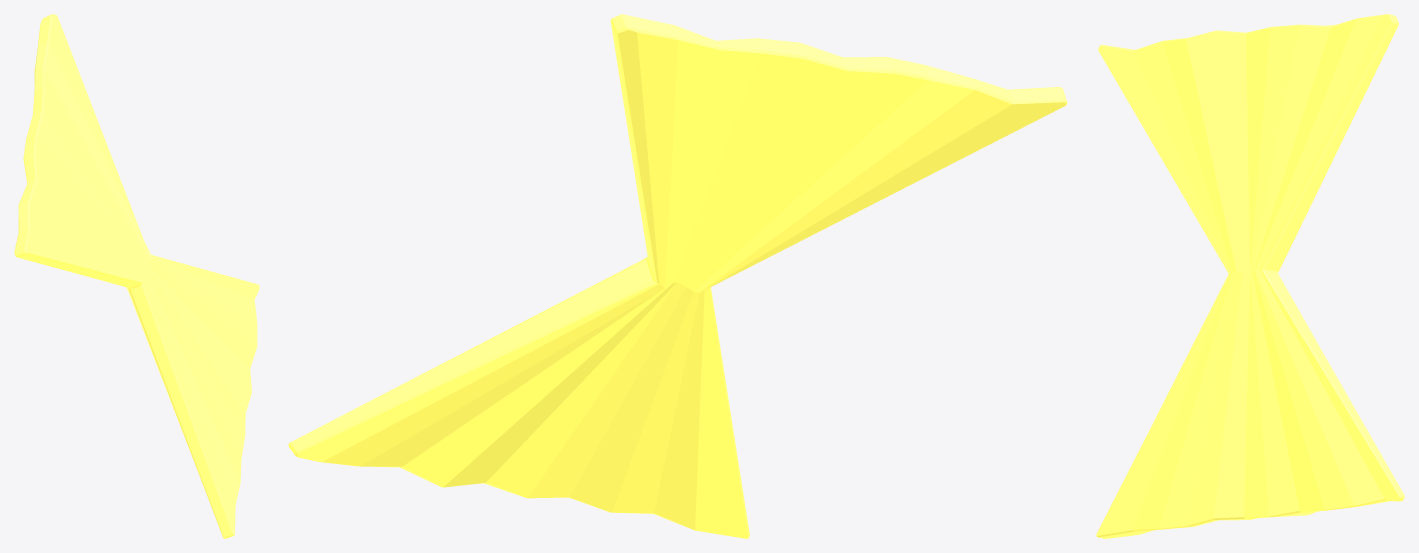
The picture shows the model from 3 angles, left to right: view 1: azimuth 30°, elevation 25°; view 2: azimuth 150°, elevation 25°; view 3: azimuth 270°, elevation 25°; orthographic projection. The views are drawn at different scales.
Parts seen in each view (by area): view 1: Plane.001; view 2: Plane.001; view 3: Plane.001.
Boxes of the visible parts, x1,y1,x2,y2 form: Plane.001: [14, 14, 259, 538]; Plane.001: [288, 14, 1067, 538]; Plane.001: [1096, 14, 1404, 538].
Bounding box in the file's own units: 3.31 × 3.75 × 2.1.
